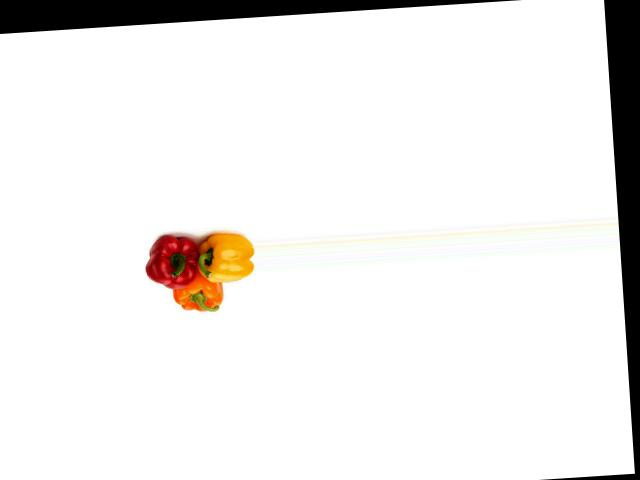bell_pepper: (198, 226, 256, 285)
